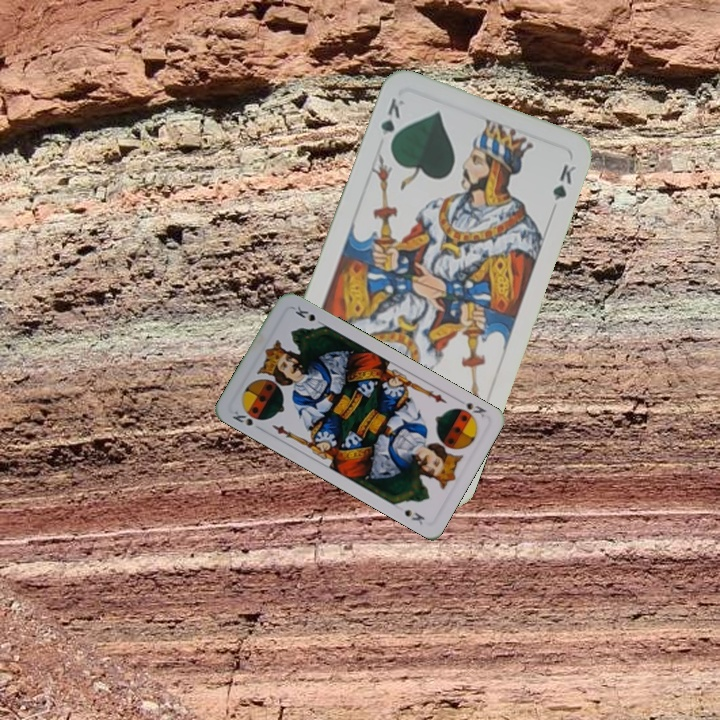GK: (376, 93, 408, 152)
SK: (451, 394, 489, 421), (228, 407, 255, 428)
